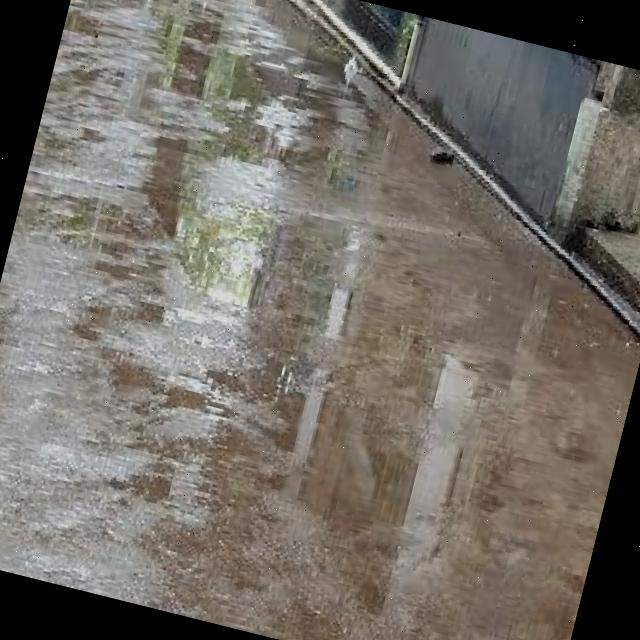waterlogging: (112, 154, 346, 350), (62, 0, 285, 109)
